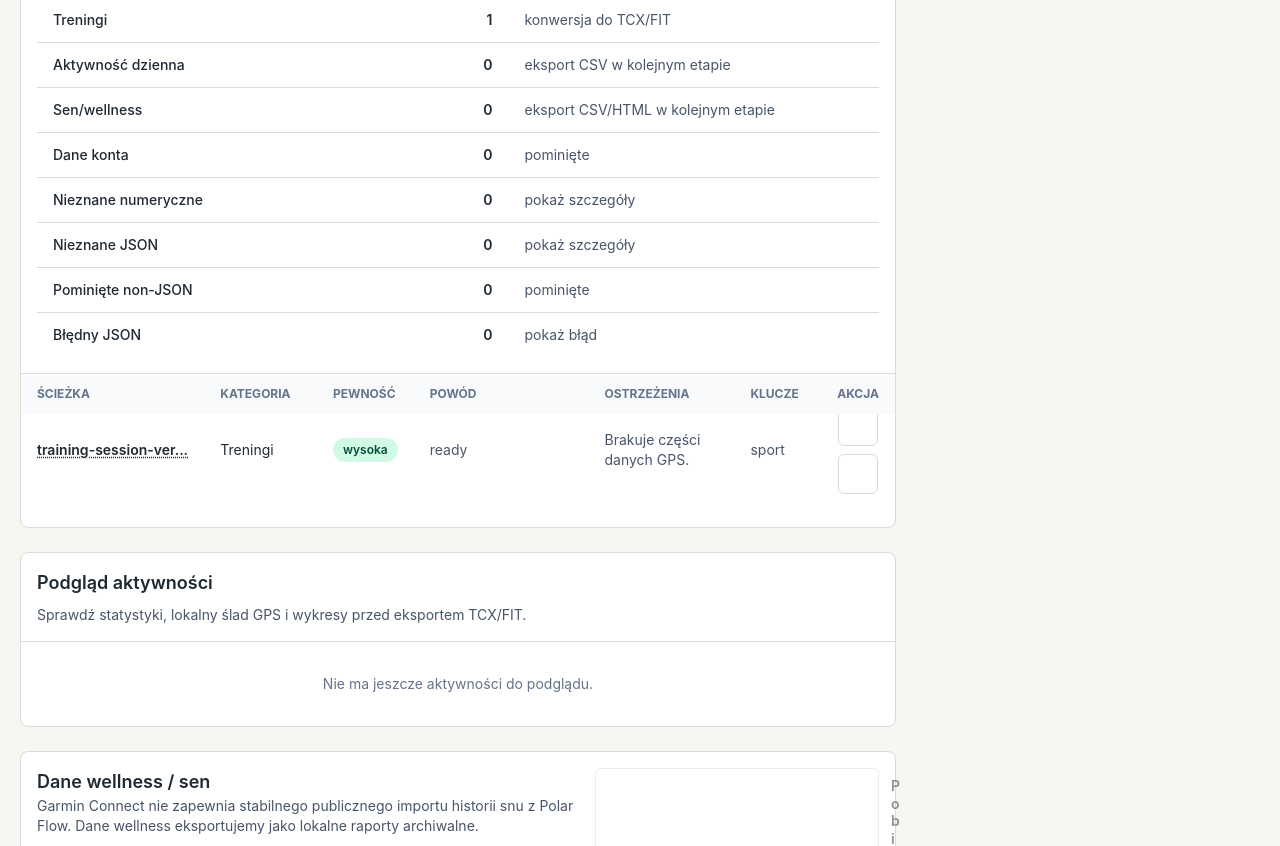
Test: ConverterComponent › shows convertible warnings with a collapsible filename
(page scrolled)
Step 1. Click the button "training-session-ver..." → (113,450), box left=37, top=440, right=188, bottom=460
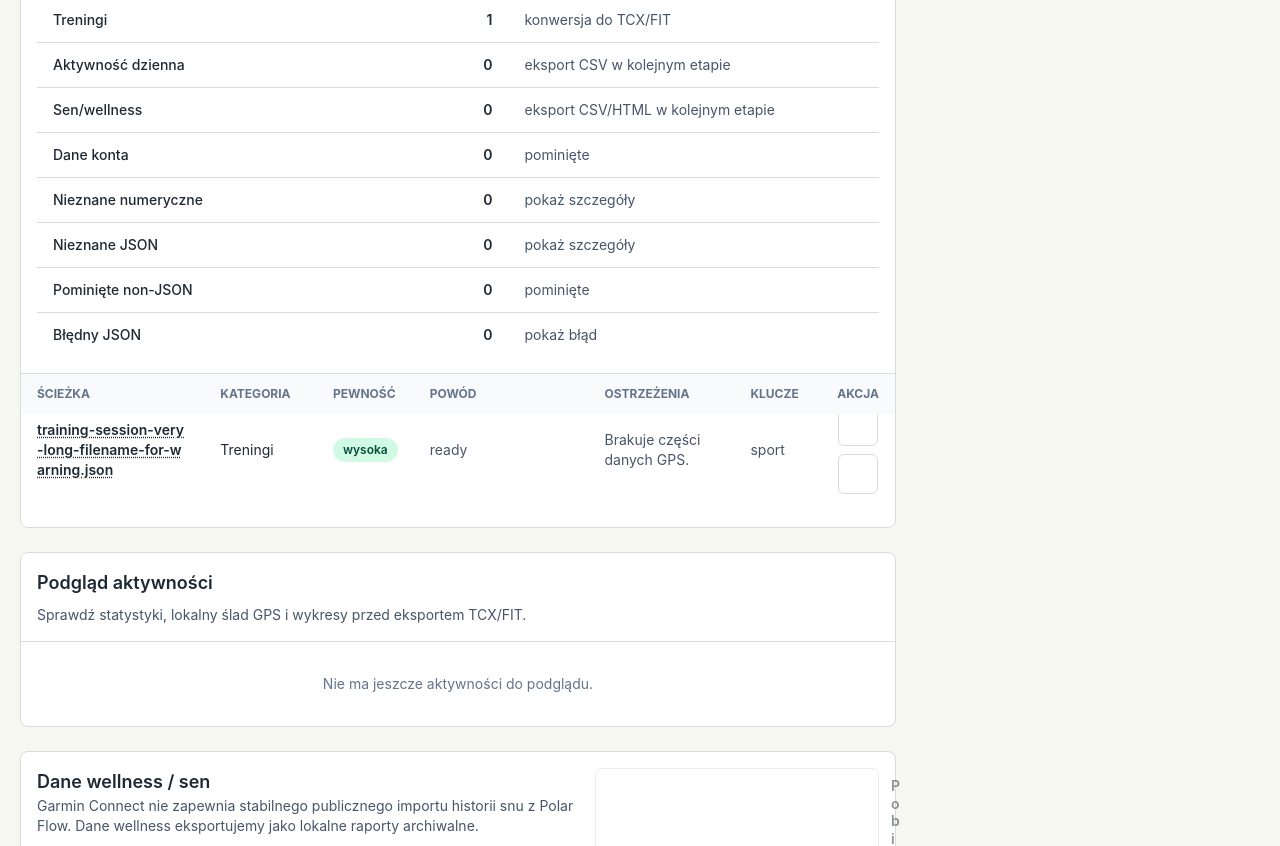
Now the button "training-session-very-long-filename-for-warning.json" is shown, box left=37, top=420, right=188, bottom=480
